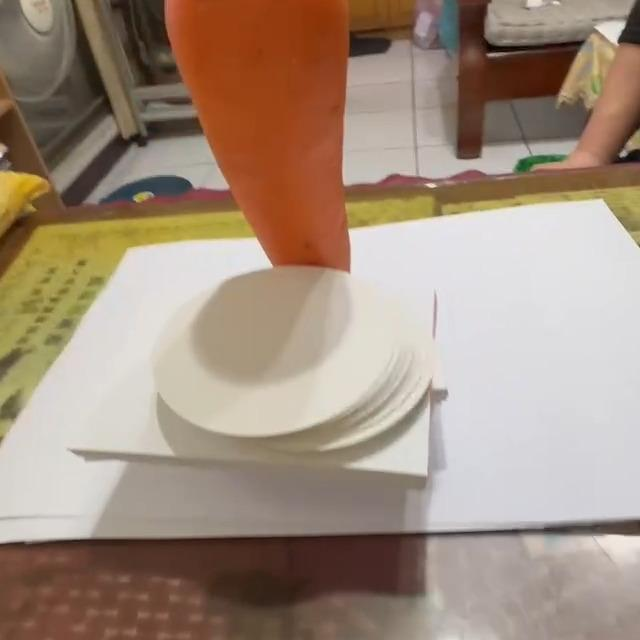carrot: (163, 1, 356, 272)
